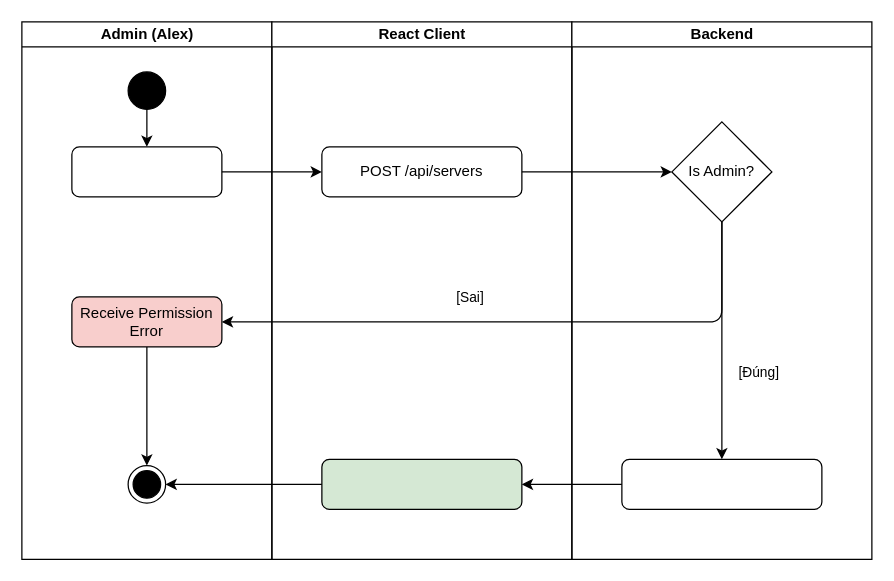
Image size: 894x581. Some labels were removed from this diagram. Here are the shapes that lost their labels. From the top down, the centre of each, then its label:
(146,171): Submit Create Form
(421,483): UI State Update (Success)
(721,483): Save to DB
